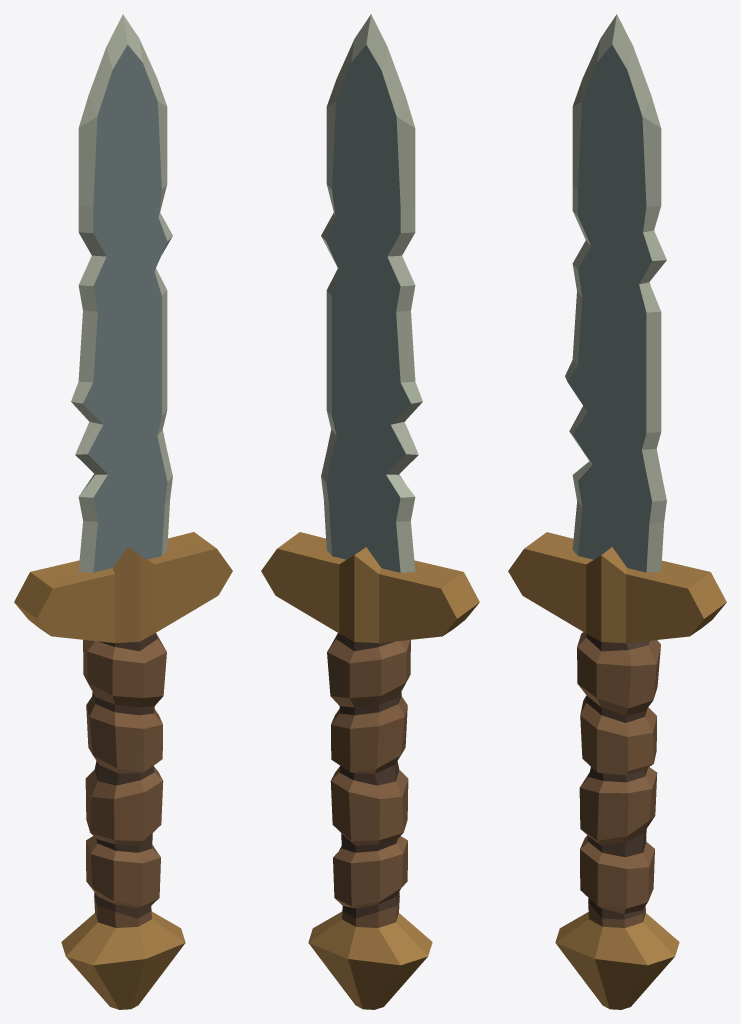
File: knife-leaf-point.glb
3 renders of one model, left to right at view 1: azimuth 30°, elevation 25°; view 2: azimuth 150°, elevation 25°; view 3: azimuth 330°, elevation 25°, orthographic.
Visible parts, largest first — view 1: knife-leaf-point runtime mesh; view 2: knife-leaf-point runtime mesh; view 3: knife-leaf-point runtime mesh.
Part boxes in pixels (<box>): knife-leaf-point runtime mesh: <box>14,14,232,1009</box>; knife-leaf-point runtime mesh: <box>261,14,479,1009</box>; knife-leaf-point runtime mesh: <box>508,14,726,1009</box>.
Size of the model in its own units: 0.0664 by 0.32 by 0.0264.
